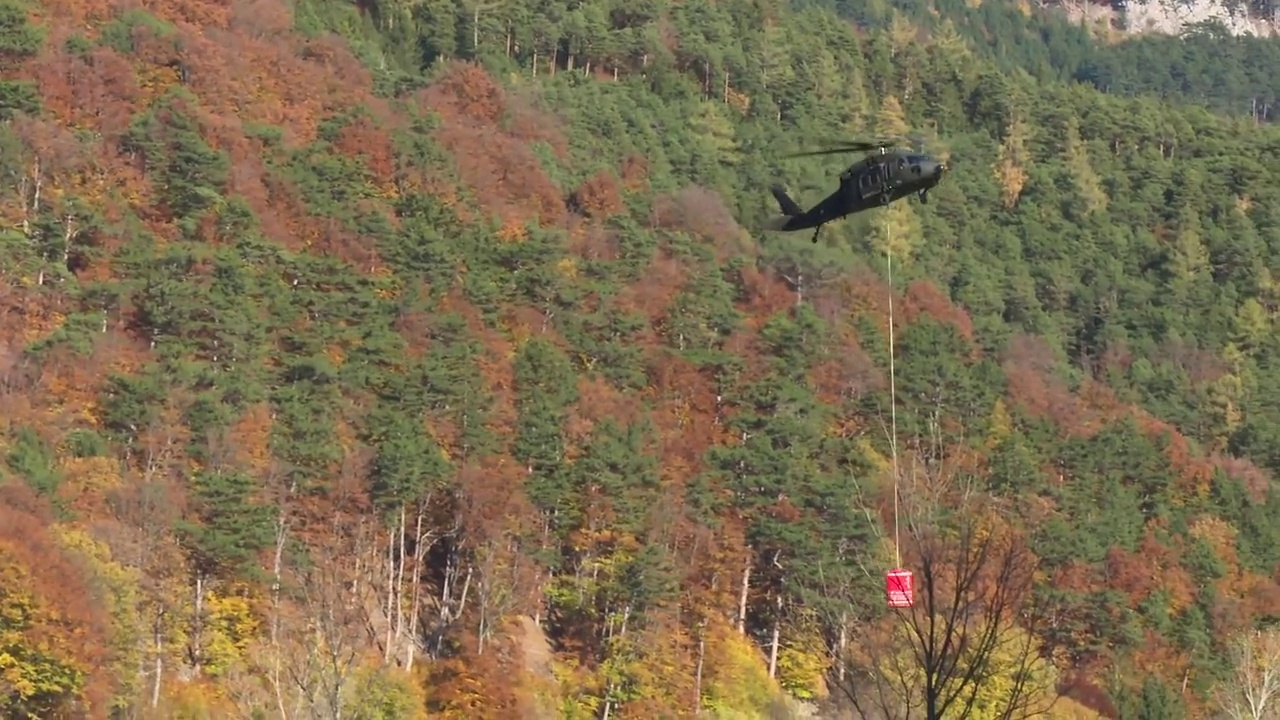heli: (768, 137, 945, 234)
